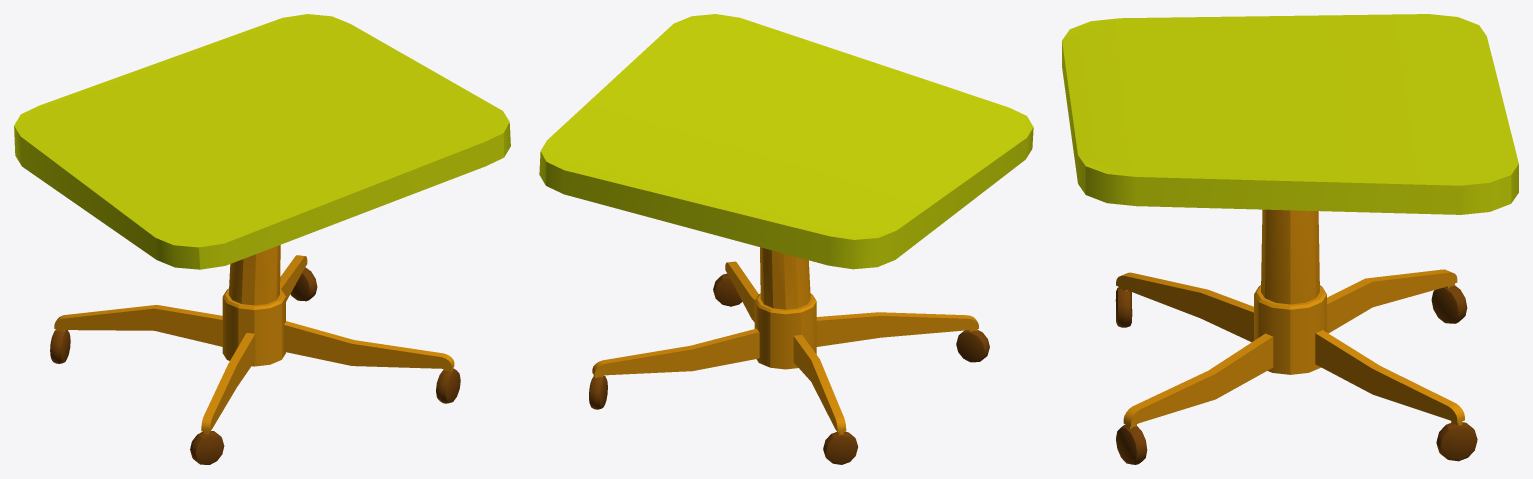
File: SM_SmallTable.fbx
3 views of the same model, side by side, from view 1: azimuth 30°, elevation 25°; view 2: azimuth 150°, elevation 25°; view 3: azimuth 270°, elevation 25° (orthographic). The views are drawn at different scales.
Visible parts, largest first — view 1: SM_SmallTable; view 2: SM_SmallTable; view 3: SM_SmallTable.
Boxes of the visible parts, x1,y1,x2,y2 form: SM_SmallTable: (14,14,510,464); SM_SmallTable: (539,14,1033,464); SM_SmallTable: (1062,14,1518,464).
Bounding box in the file's own units: 81.6 × 60.39 × 78.58.
